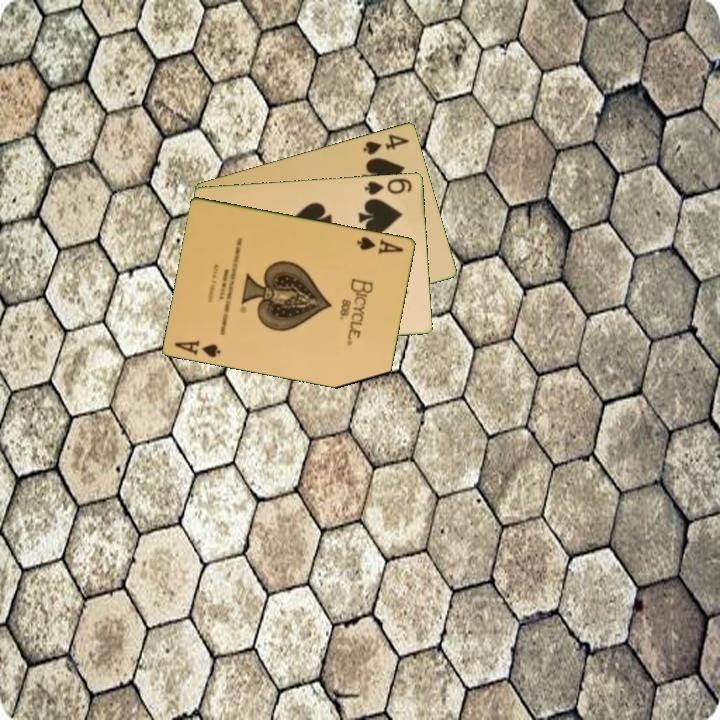4s: (359, 130, 412, 157)
6s: (362, 174, 415, 197)
As: (171, 336, 224, 360), (354, 233, 406, 256)
